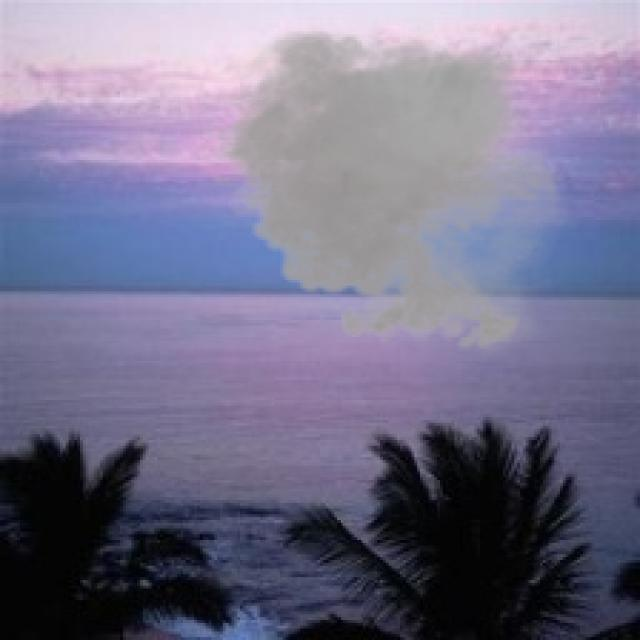Smoke: (203, 17, 580, 360)
